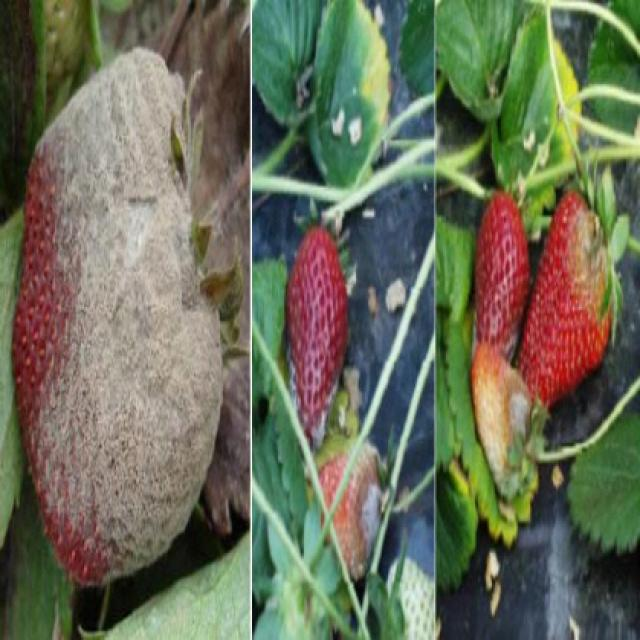Gray Mold: (10, 48, 223, 589), (470, 340, 539, 502), (331, 443, 382, 579)
